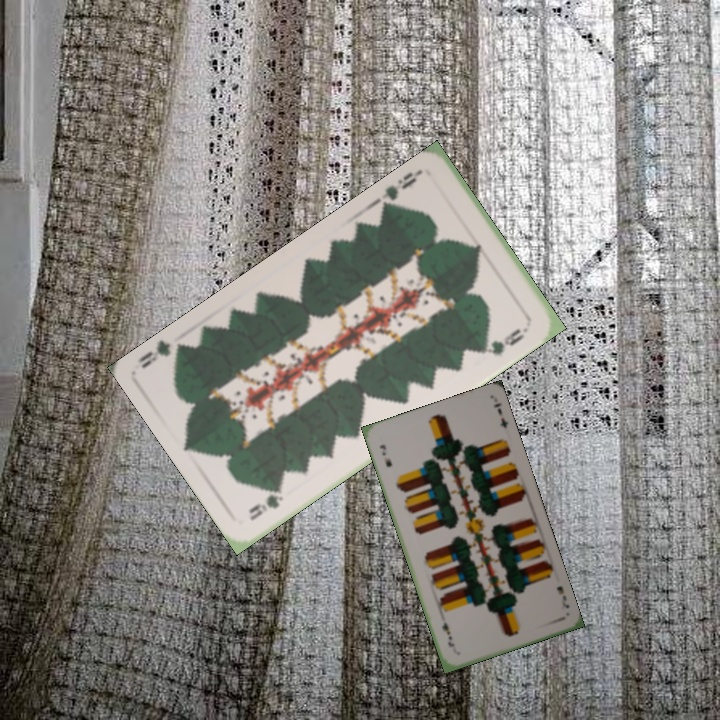E7: (375, 440, 395, 470), (553, 582, 572, 611)
G9: (374, 165, 425, 209), (244, 482, 286, 523)
